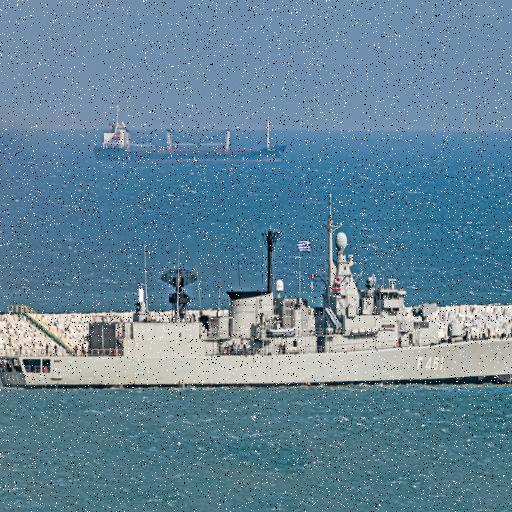Fragata: (1, 186, 512, 397)
